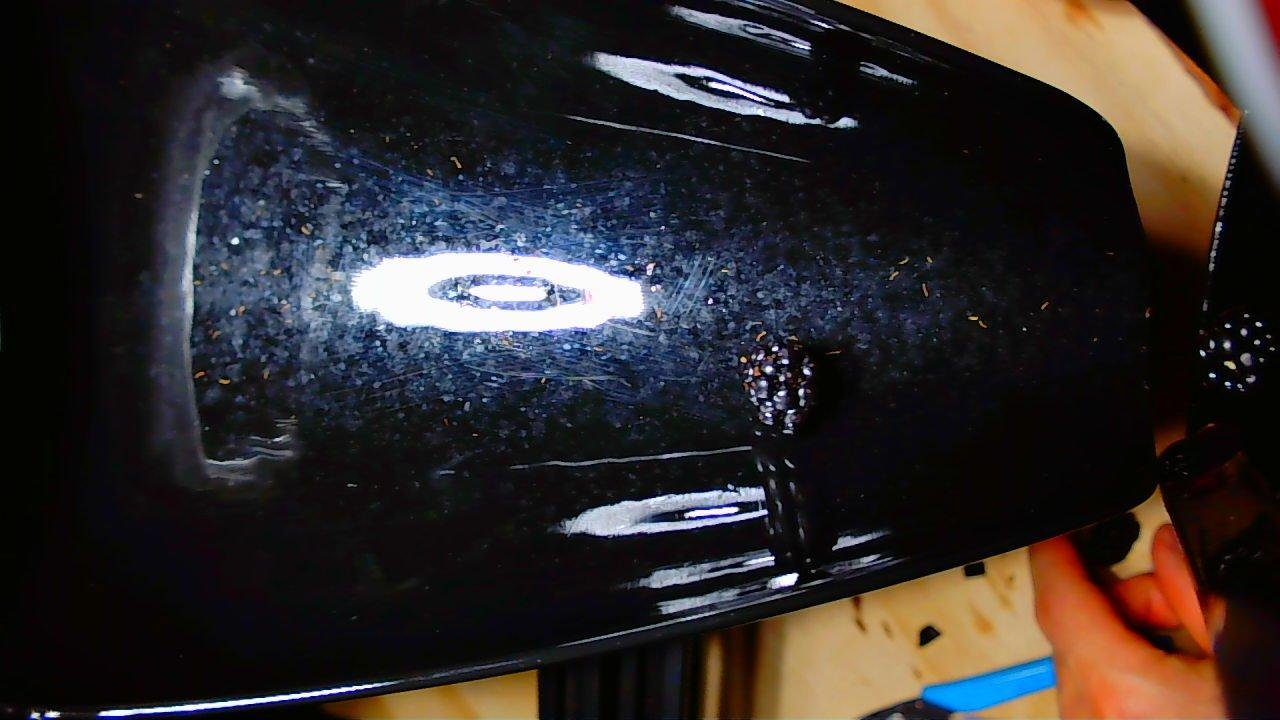berry: (740, 338, 815, 436), (1199, 311, 1279, 395)
